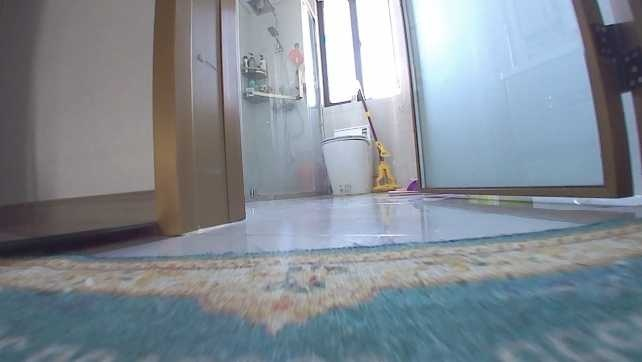blanket: (1, 210, 641, 361)
door_anno: (396, 0, 641, 202)
toilet: (319, 120, 378, 195)
